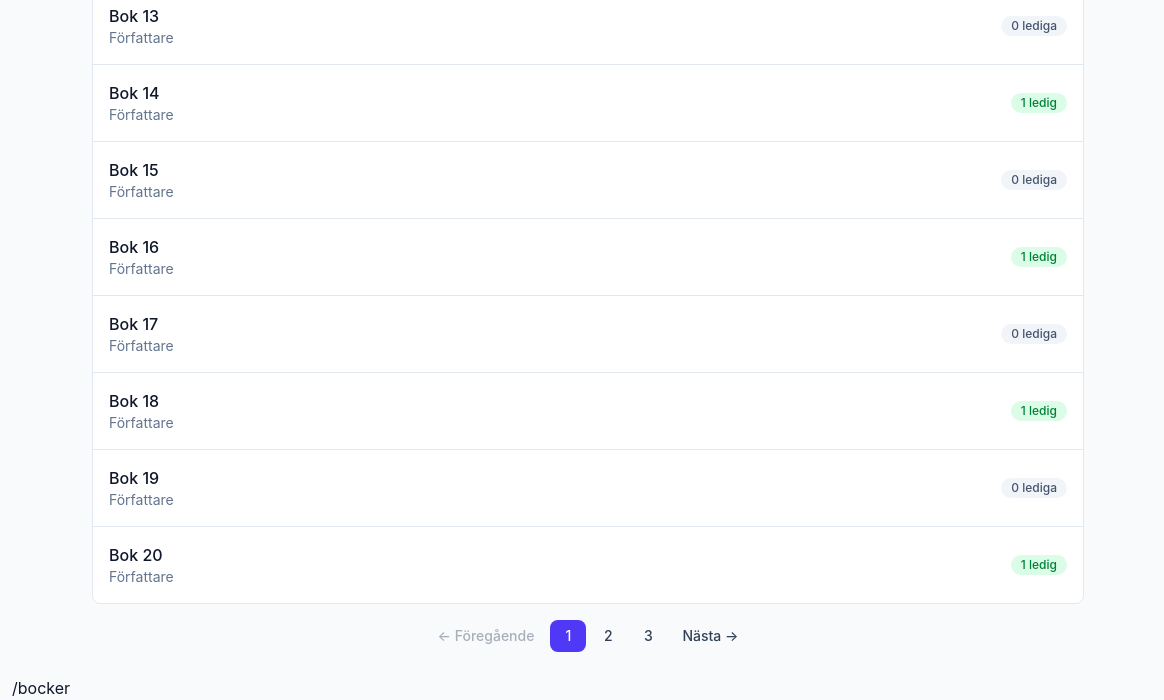
Scenario: BooksPage › sidindelning › visar 20 böcker per sida och navigerar via URL:en
The image size is (1164, 700).
(page scrolled)
Expected: the button with aria-label "Föregående sida" is disabled, [426, 620, 546, 652]
Click the button with aria-label "Nästa sida".
click(710, 636)  # box [670, 620, 750, 652]
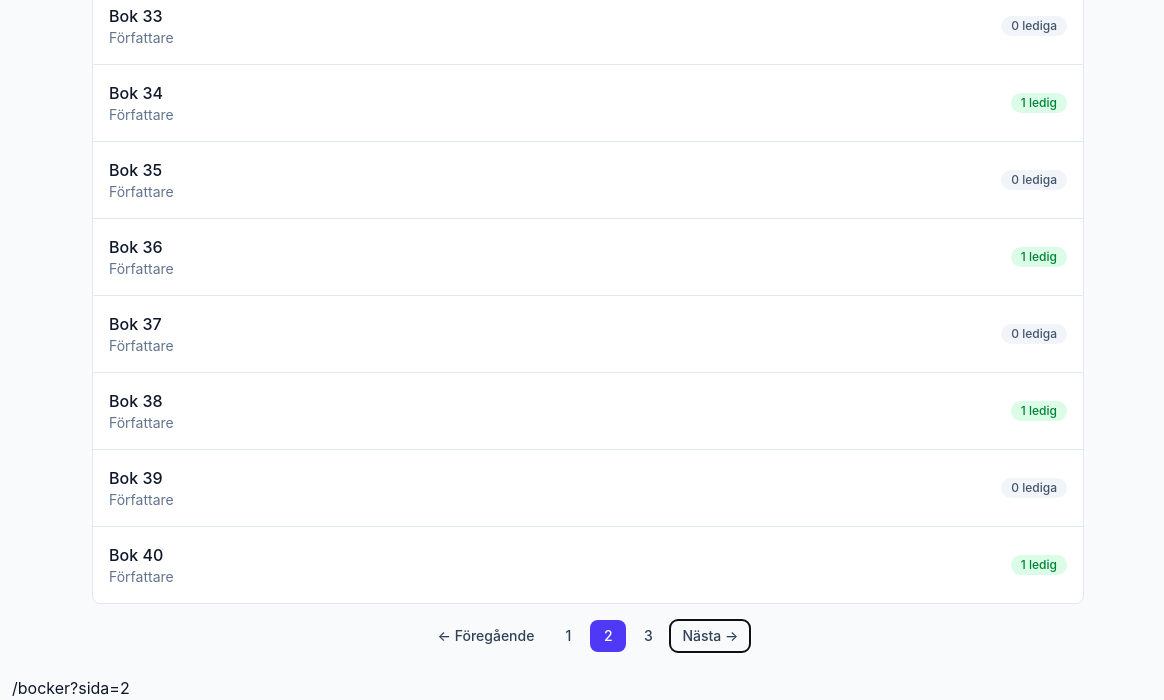
Expected: the text with test id "location" reads "/bocker?sida=2", [12, 678, 130, 698]
Click the button named "Sida 3".
click(648, 636)  # box [630, 620, 666, 652]
(page scrolled)
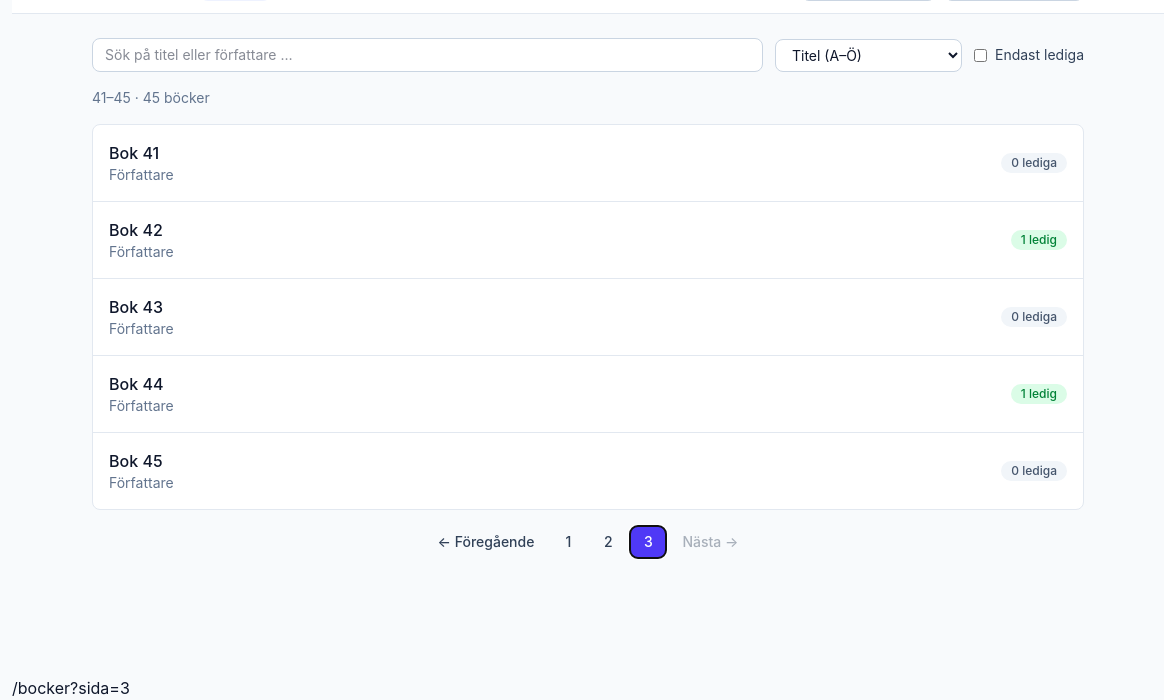
Expected: the text "41–45 · 45 böcker" is shown, [92, 89, 210, 106]
Expected: the button with aria-label "Nästa sida" is disabled, [670, 526, 750, 558]
